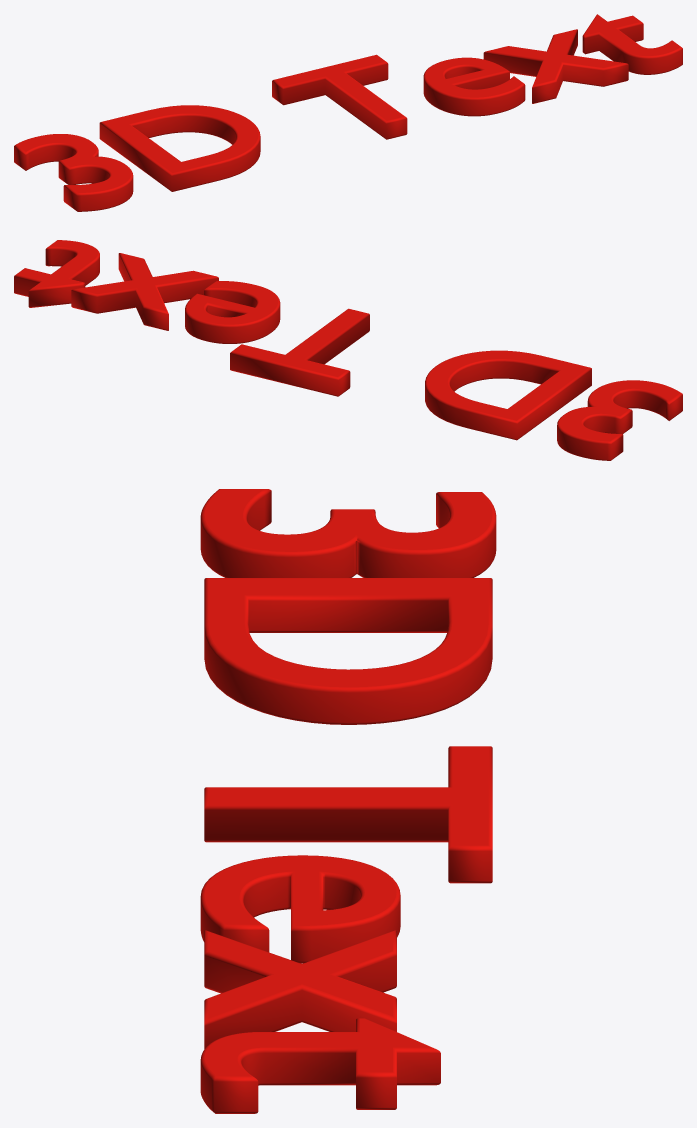
Rendered from asset.gltf.
3 views of the same model, one above another, from view 1: azimuth 30°, elevation 25°; view 2: azimuth 150°, elevation 25°; view 3: azimuth 270°, elevation 25° (orthographic). The views are drawn at different scales.
Visible parts, largest first — view 1: Text; view 2: Text; view 3: Text.
Boxes of the visible parts, x1,y1,x2,y2 form: Text: (14, 14, 682, 211); Text: (14, 240, 682, 460); Text: (200, 489, 496, 1113).
Bounding box in the file's own units: 3.4 × 0.1 × 0.72.
